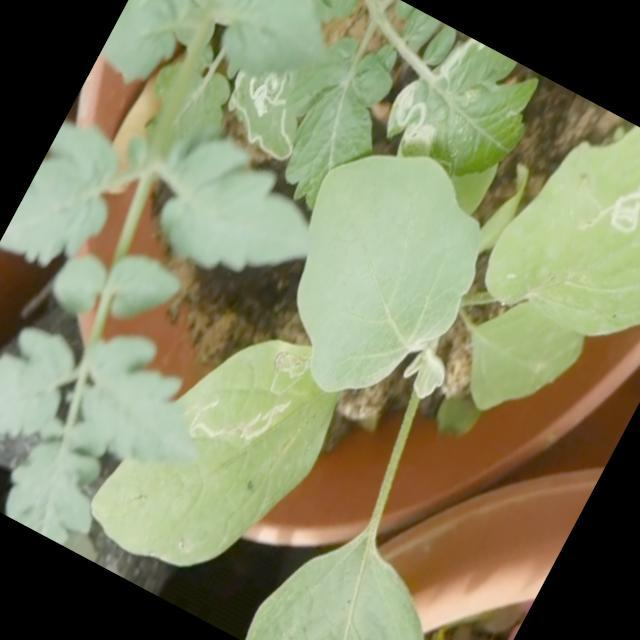Tomato target spot leaf: (76, 296, 359, 612), (470, 93, 640, 385), (369, 19, 551, 206), (206, 46, 327, 166)
